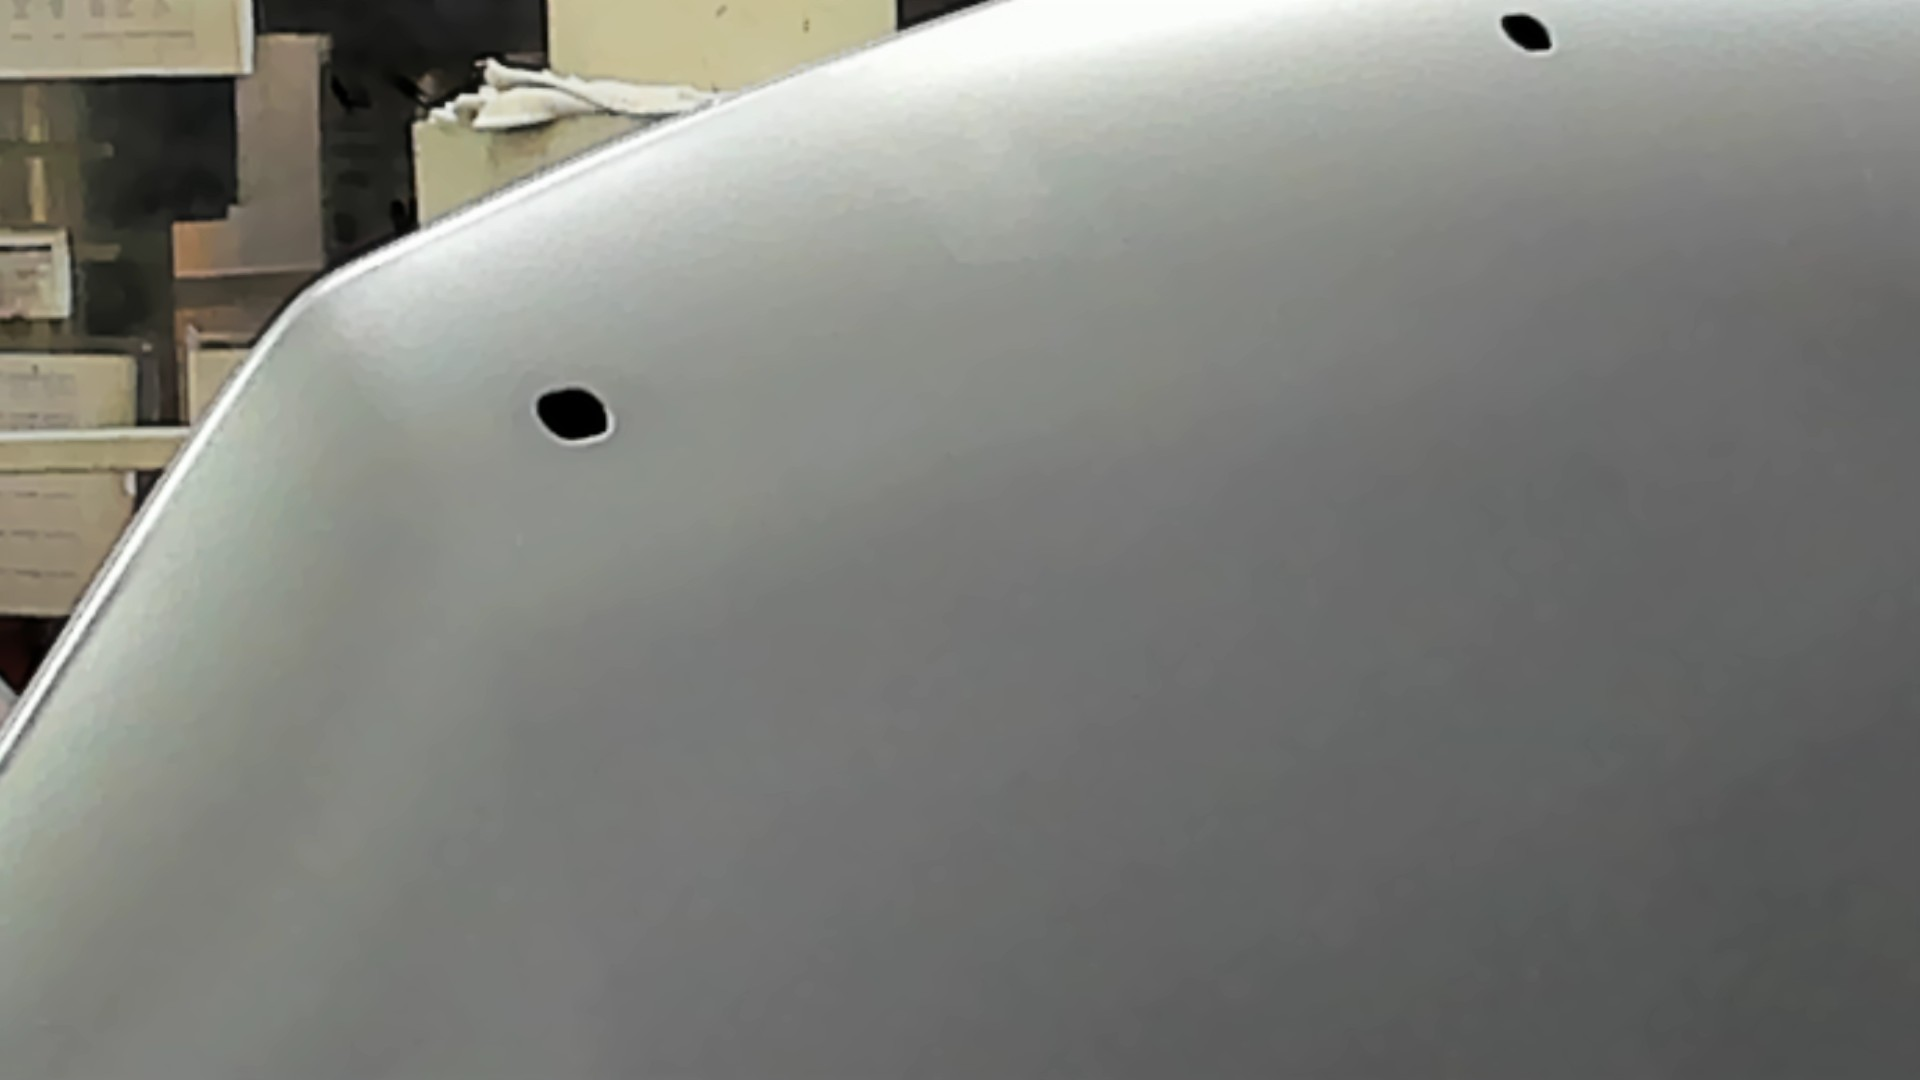amorfo: (525, 378, 621, 447), (1495, 9, 1557, 61)
